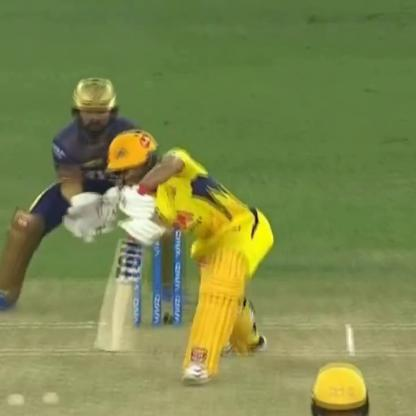ball: (39, 383, 62, 409), (5, 387, 28, 412)
bat: (100, 211, 144, 358)
pitch: (6, 270, 416, 416)
